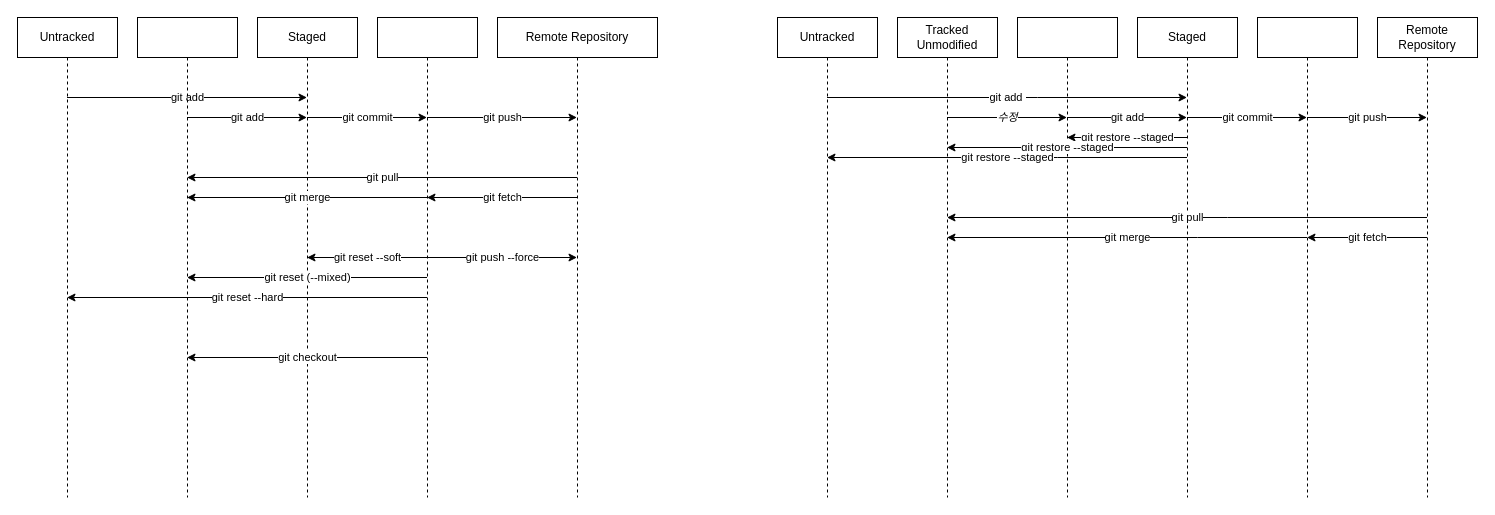
This 1495x515 diagram has some shape labels left out. The box of each missing label's shape, as (x1, y1, x2, y2) in pixels:
Index: (376, 16, 478, 498)
Indexed: (1256, 16, 1358, 498)
Tracked: (136, 16, 238, 498)
Tracked Modified: (1016, 16, 1118, 498)
